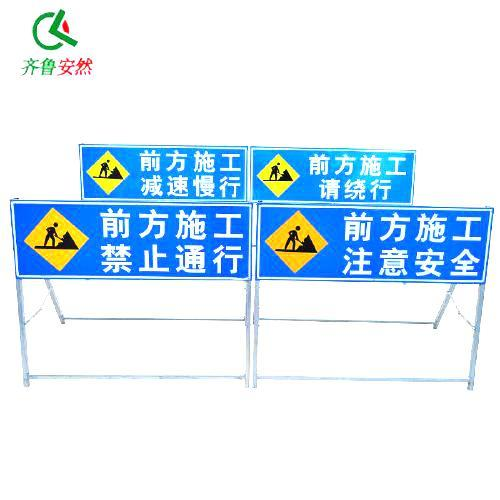sign: (11, 201, 249, 282), (257, 203, 487, 286), (250, 146, 415, 204), (80, 145, 245, 197)
